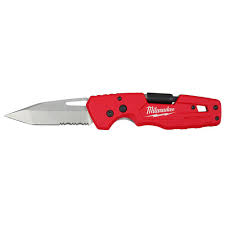knife: (3, 80, 224, 140)
